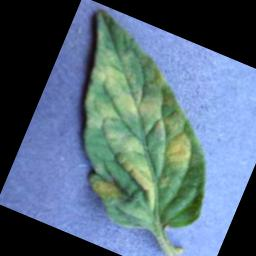Leaf_Mold: (23, 7, 256, 254)
